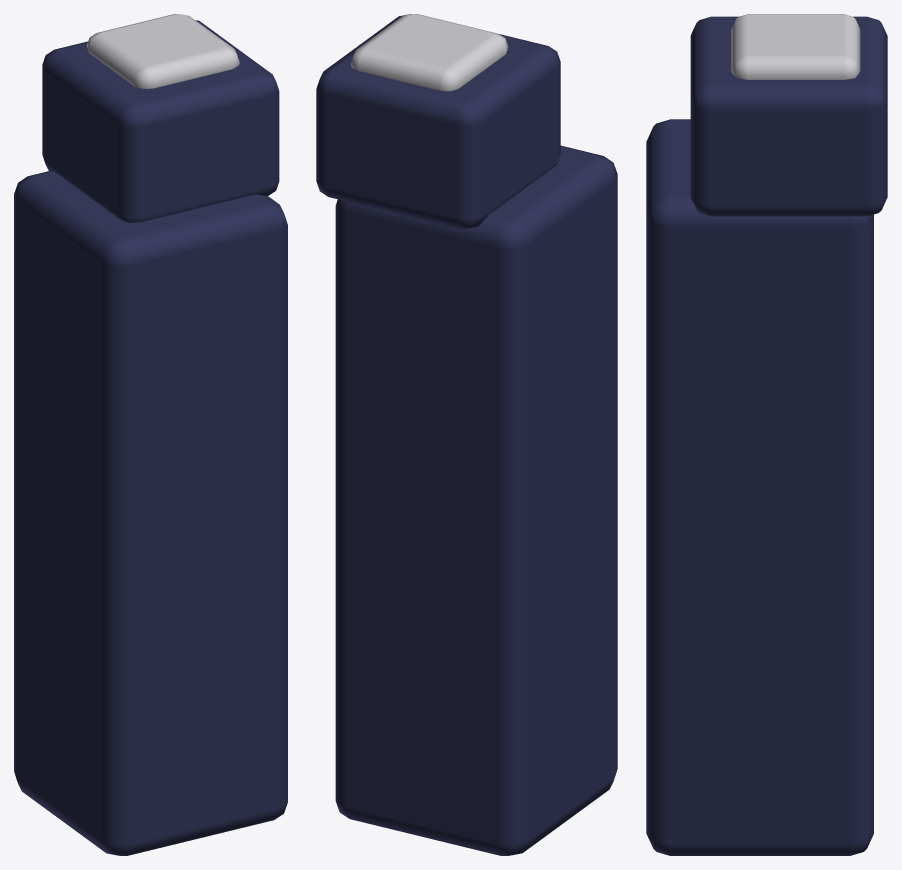
The model's file is hull.corner.k-1.25.t1.34.glb.
The picture shows the model from 3 angles, left to right: view 1: azimuth 30°, elevation 25°; view 2: azimuth 150°, elevation 25°; view 3: azimuth 270°, elevation 25°; orthographic projection. The views are drawn at different scales.
Visible parts, largest first — view 1: hull.corner.k-1.25.t1.34; view 2: hull.corner.k-1.25.t1.34; view 3: hull.corner.k-1.25.t1.34.
Boxes of the visible parts, box(x1,y1,x2,y2) form: hull.corner.k-1.25.t1.34: box(14, 14, 287, 855); hull.corner.k-1.25.t1.34: box(316, 14, 617, 855); hull.corner.k-1.25.t1.34: box(646, 14, 887, 855).
Size of the model in its own units: 0.71 by 2.59 by 0.71.
